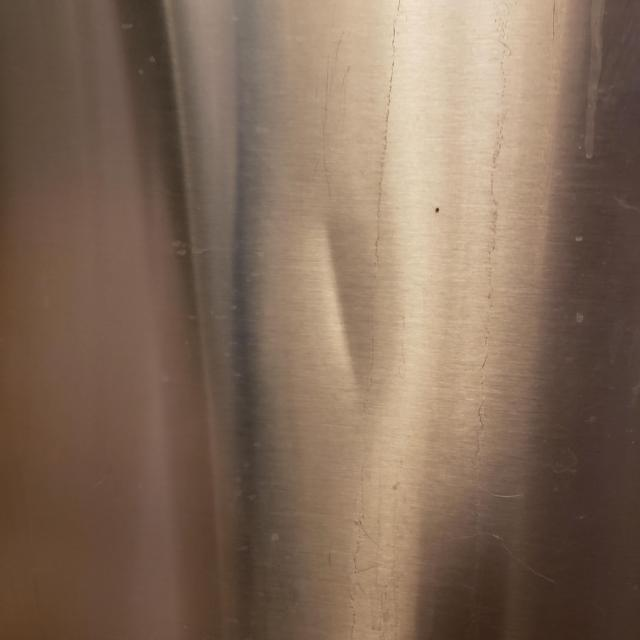dents: (302, 216, 451, 480)
